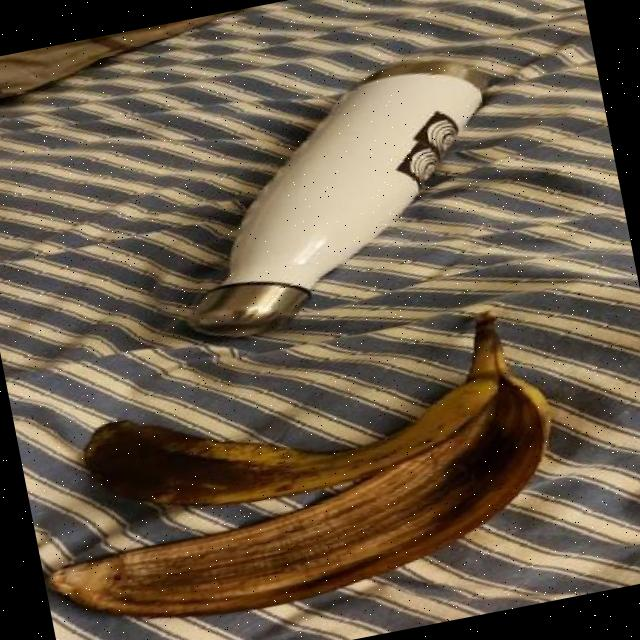banana-peel: (11, 300, 579, 640), (68, 308, 528, 534)
